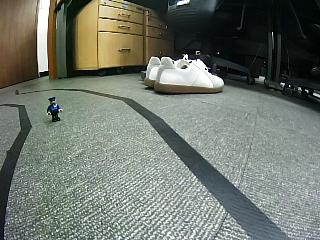person: (46, 96, 63, 122)
